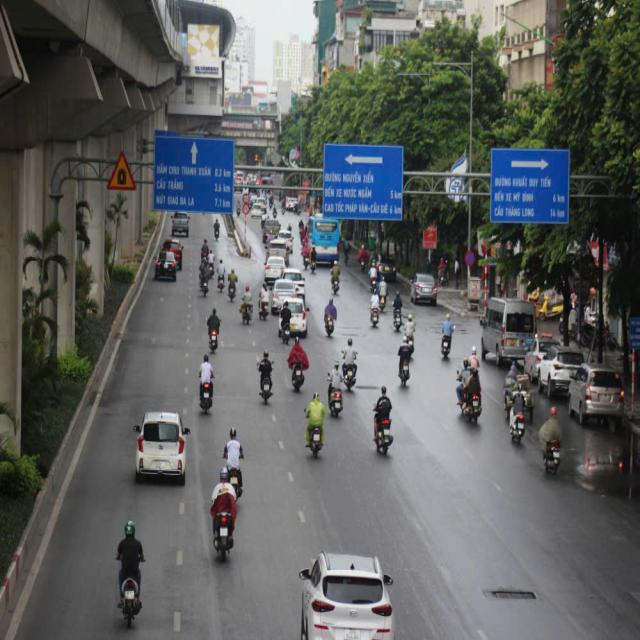Xe Buyt: (308, 207, 344, 269)
car: (131, 405, 198, 487), (282, 293, 310, 338), (412, 266, 439, 308), (272, 276, 298, 316), (154, 246, 179, 286), (264, 251, 288, 288), (277, 221, 295, 259), (172, 206, 191, 238)
motobyte: (206, 461, 239, 565), (116, 514, 145, 632), (220, 418, 248, 508), (369, 382, 399, 459), (456, 355, 482, 428), (303, 387, 328, 462), (195, 352, 218, 417), (254, 344, 274, 408), (341, 334, 360, 396), (327, 357, 345, 422), (438, 307, 457, 363), (288, 333, 304, 394), (204, 303, 222, 357), (404, 308, 420, 360), (397, 334, 412, 389), (322, 291, 336, 342), (240, 280, 254, 327), (368, 287, 382, 332), (328, 256, 342, 300), (391, 288, 404, 332), (278, 299, 291, 343), (258, 277, 270, 322), (378, 271, 389, 316), (201, 258, 213, 298), (228, 265, 238, 306), (217, 256, 226, 296), (214, 212, 222, 242)
